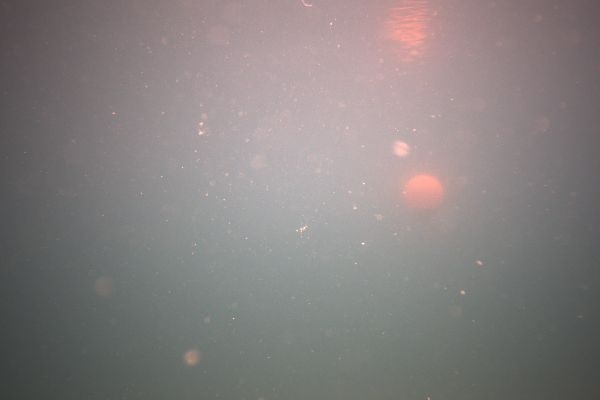buoy: (404, 175, 444, 221)
